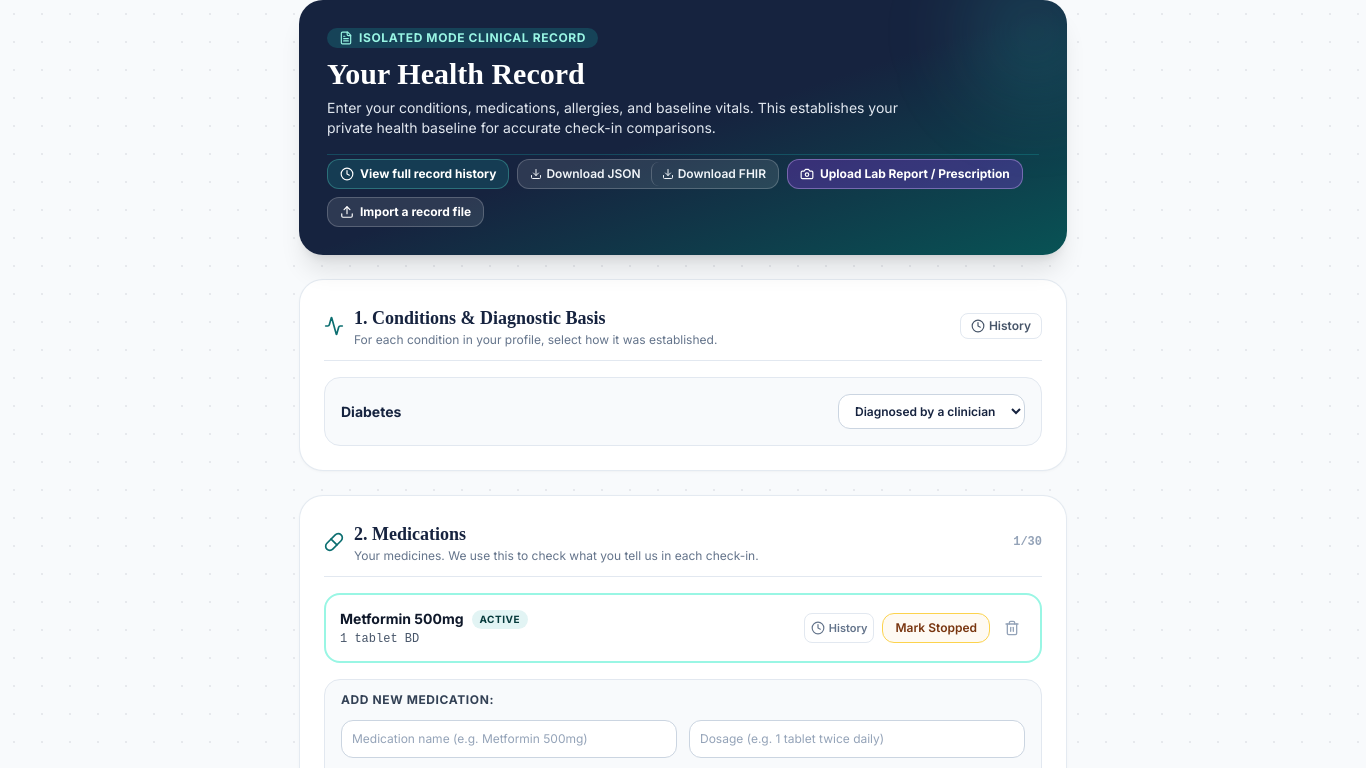
Record History UI (HealthRecordScreen) › opens full record history from header button
The image size is (1366, 768).
Click the button with test id "view-full-history-btn": (418, 174) [327, 159, 509, 189]
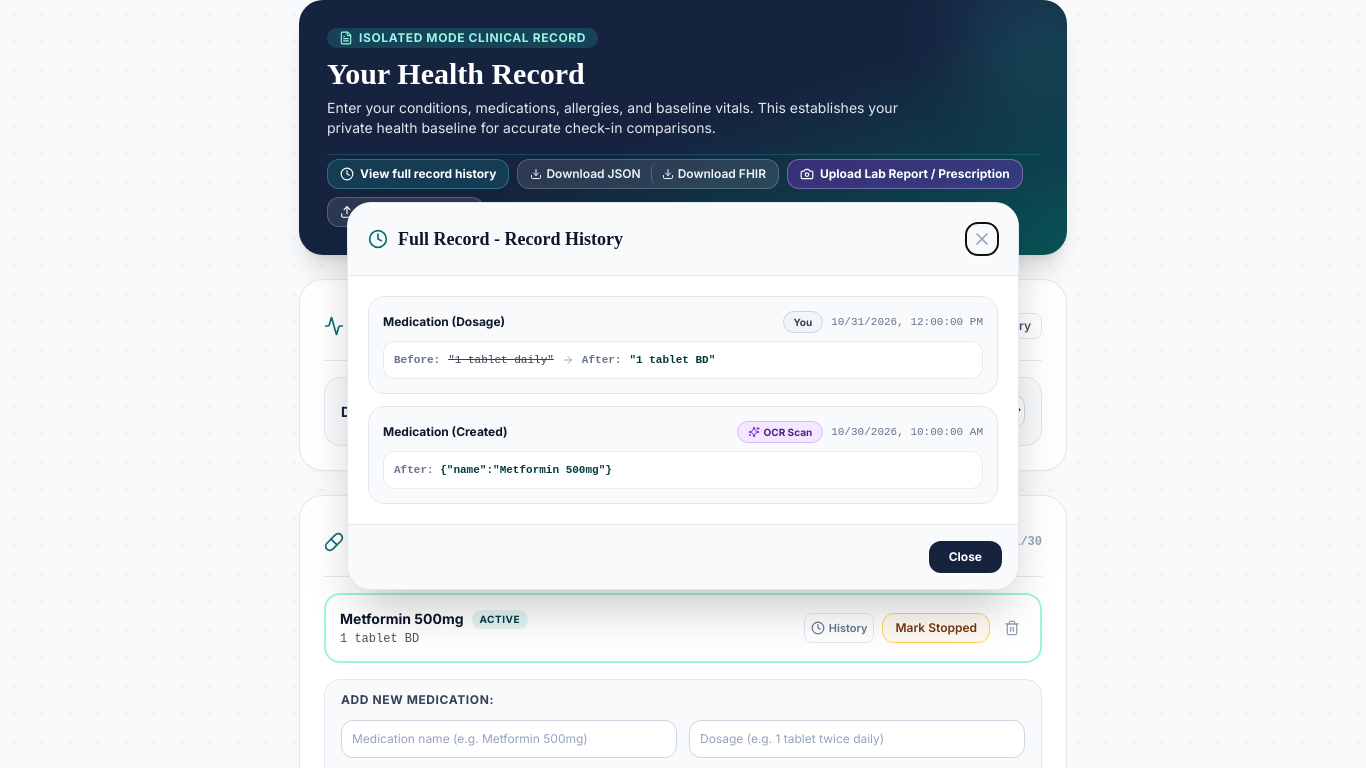
Expected: the dialog with test id "record-history-modal" is shown, [347, 202, 1019, 590]
